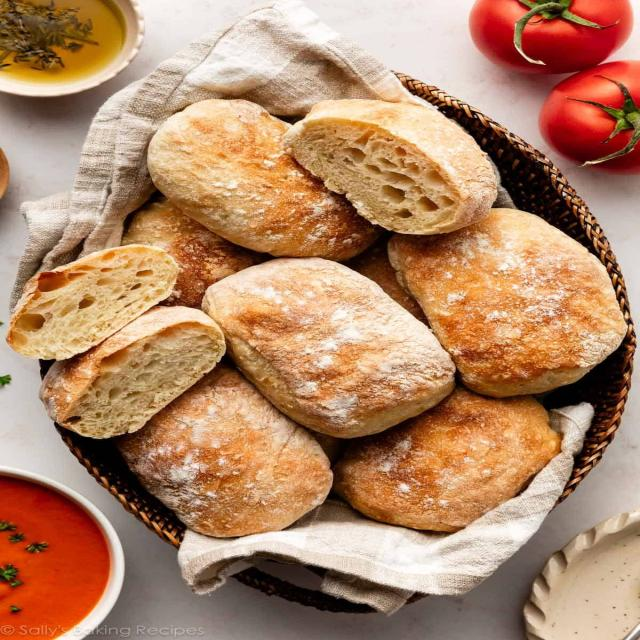Ciabatta: (202, 258, 454, 438), (388, 209, 627, 398), (119, 362, 332, 538), (333, 388, 561, 532), (286, 100, 499, 235)
